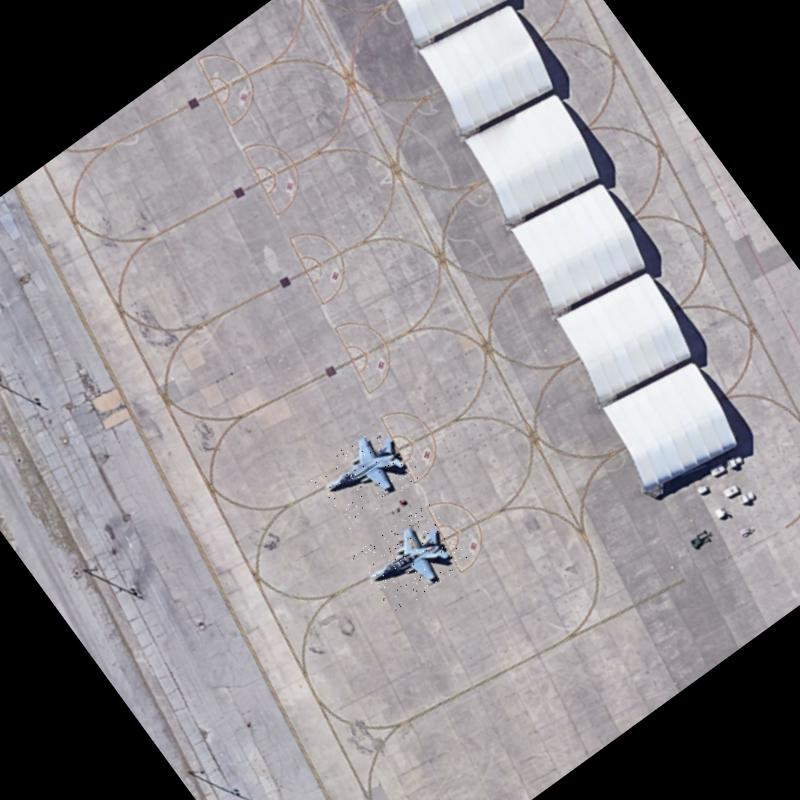A16: (351, 500, 471, 616), (306, 418, 423, 530)
